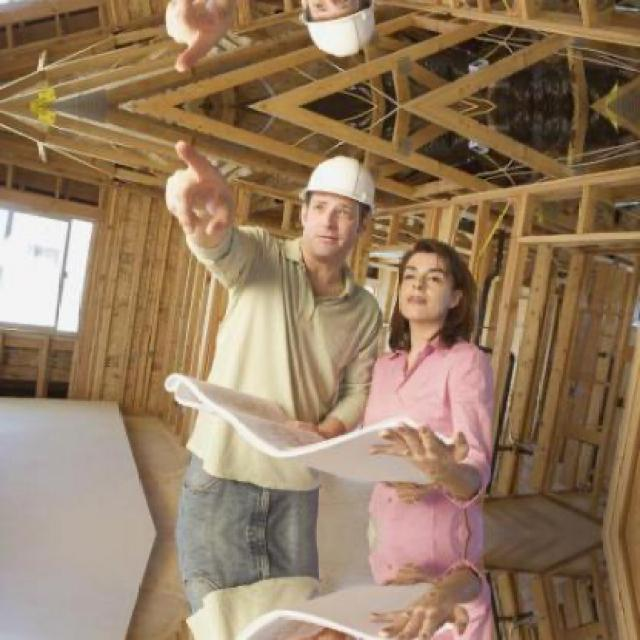helmet: (294, 154, 384, 282), (294, 0, 386, 60)
